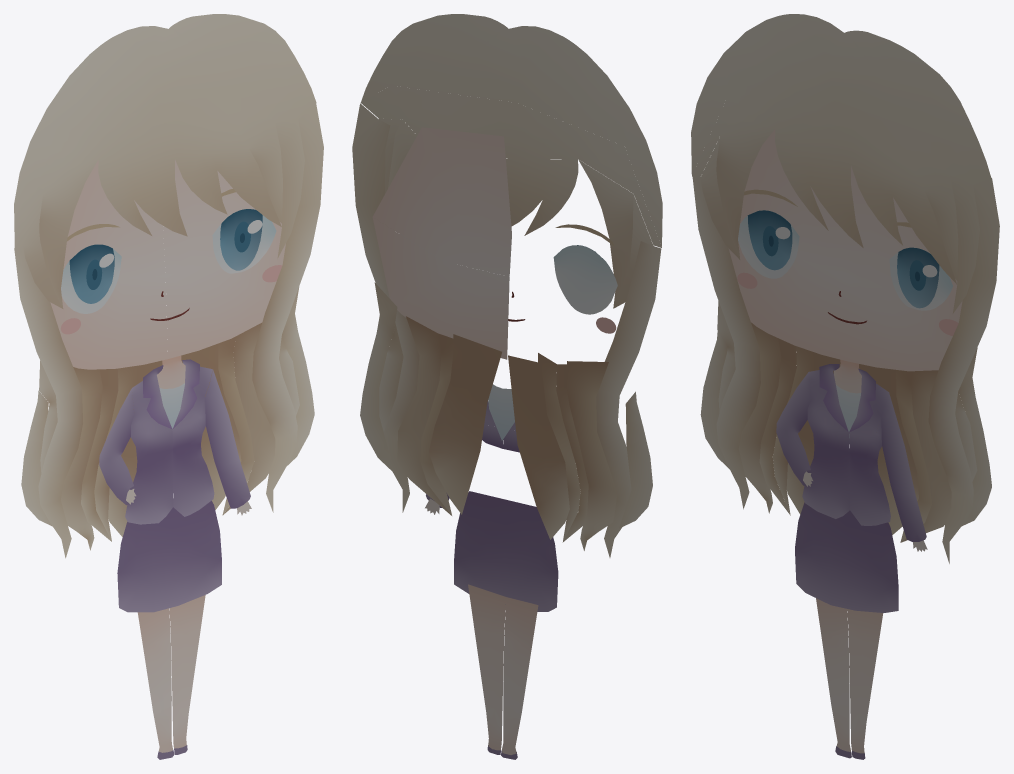
Rendered from girl.glb.
3 renders of one model, left to right at view 1: azimuth 30°, elevation 25°; view 2: azimuth 150°, elevation 25°; view 3: azimuth 330°, elevation 25°, orthographic.
Size of the model in its own units: 766 by 1743 by 6.1.
